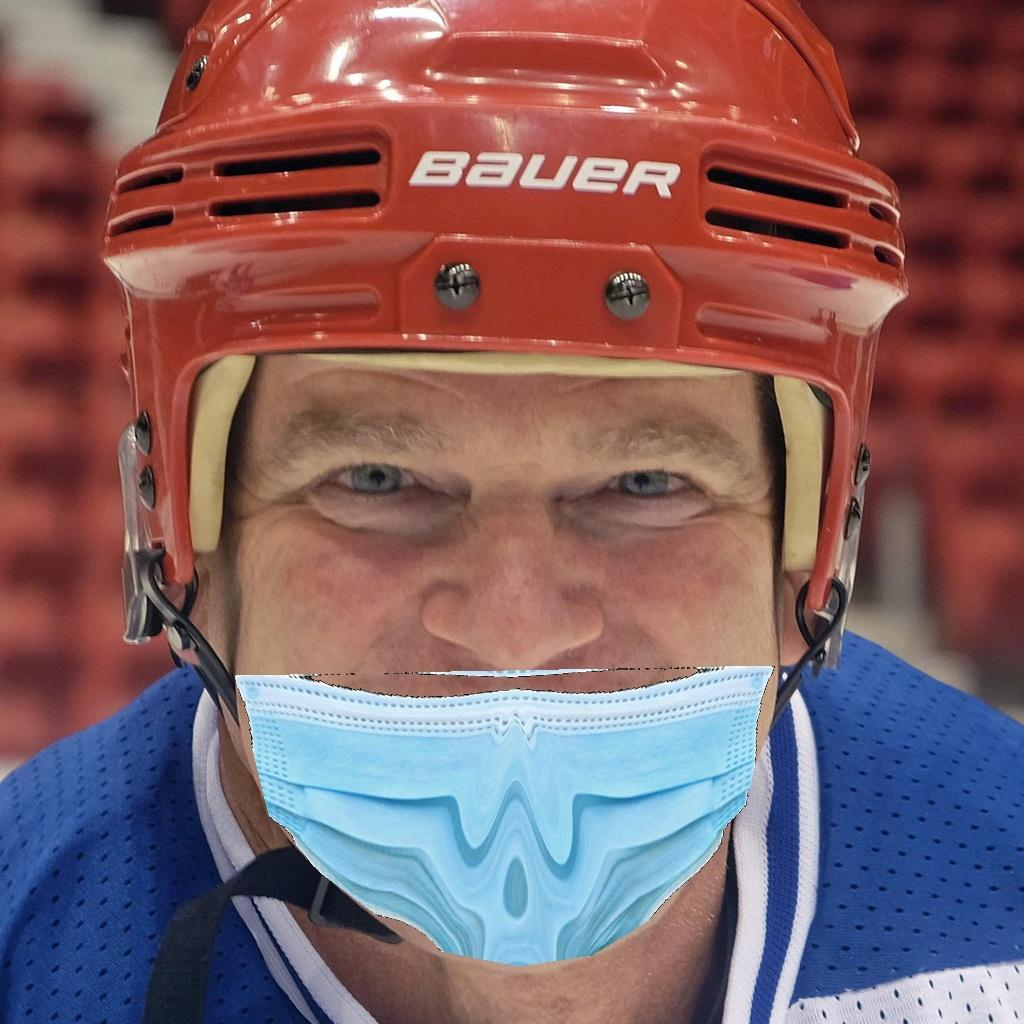Máscara Incorreta: (145, 292, 823, 953)
